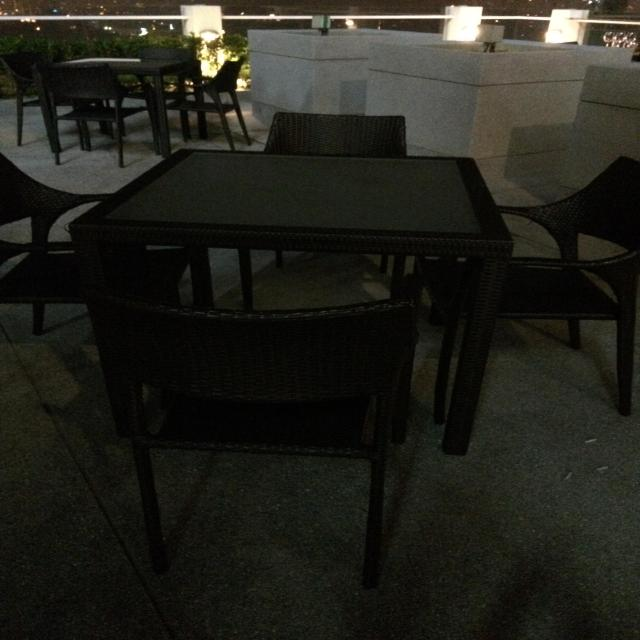Table: (58, 116, 560, 363), (26, 44, 202, 159)
chair: (73, 265, 477, 578), (488, 150, 640, 375), (0, 130, 116, 350), (254, 79, 424, 168), (167, 30, 257, 105)
